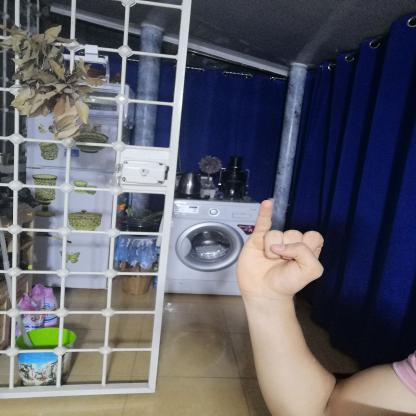MEEM: (229, 195, 336, 304)
